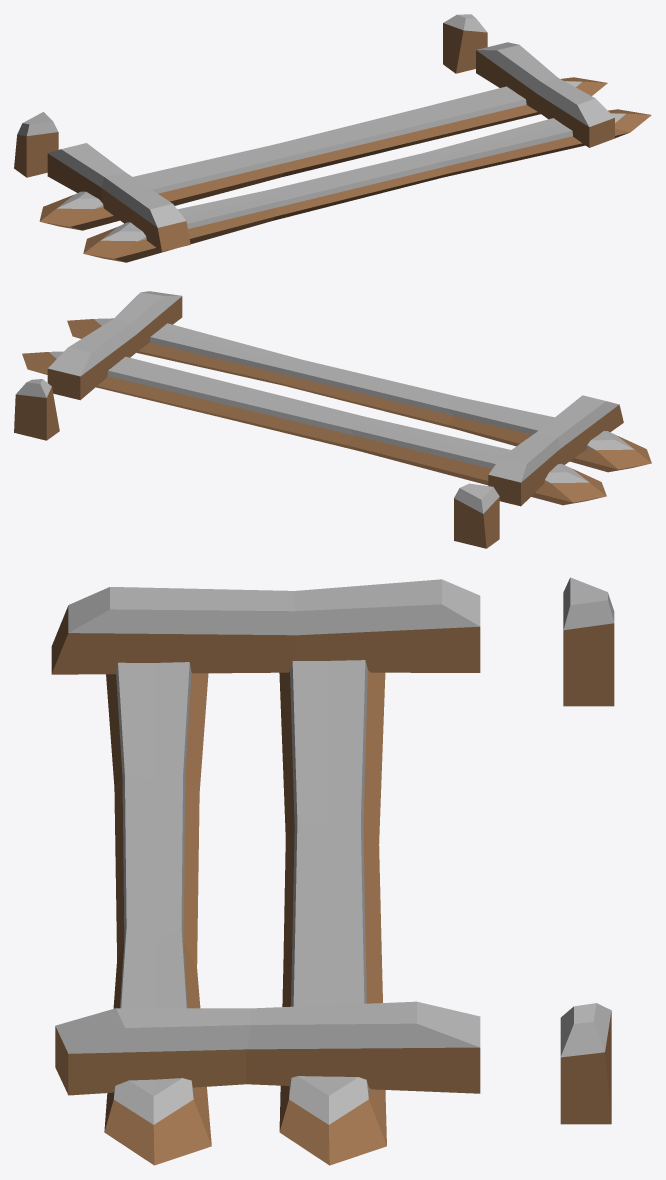
Rendered from Fence_2 Winter Broken.fbx.
3 renders of one model, top to bottom at view 1: azimuth 30°, elevation 25°; view 2: azimuth 150°, elevation 25°; view 3: azimuth 270°, elevation 25°, orthographic. The views are drawn at different scales.
Parts seen in each view (by area): view 1: Fence2WinterBroken_mesh; view 2: Fence2WinterBroken_mesh; view 3: Fence2WinterBroken_mesh.
Boxes of the visible parts, x1,y1,x2,y2 form: Fence2WinterBroken_mesh: [14, 14, 651, 262]; Fence2WinterBroken_mesh: [14, 291, 651, 548]; Fence2WinterBroken_mesh: [51, 577, 614, 1165].
Size of the model in its own units: 311 by 26.74 by 133.
